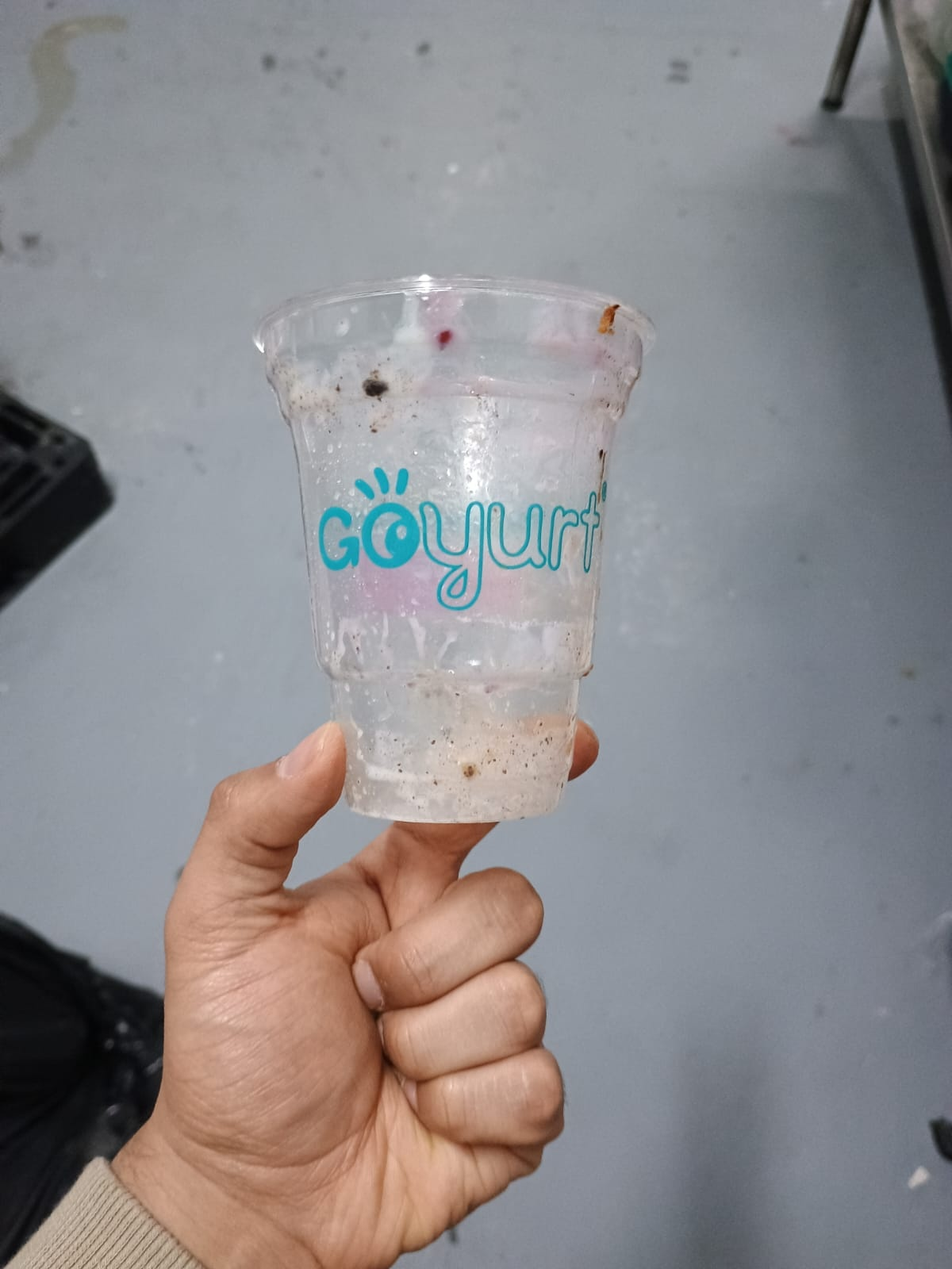Plastico: (250, 278, 655, 823)
